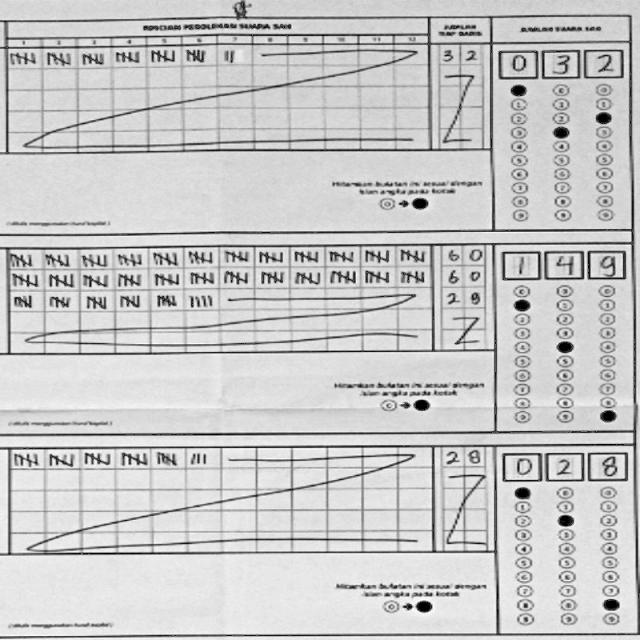Suara: (498, 243, 633, 281), (493, 46, 627, 84), (498, 450, 633, 487)
